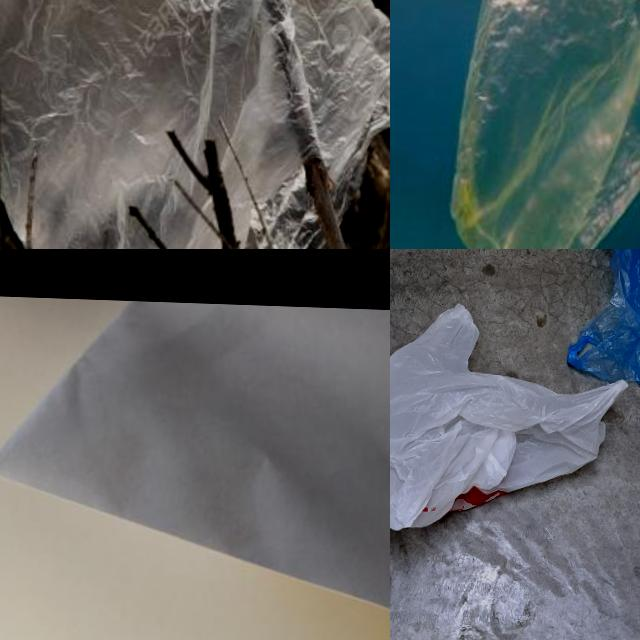papel: (0, 295, 390, 640)
sacola plástica: (0, 0, 390, 249), (390, 300, 631, 538), (444, 0, 640, 249), (565, 249, 640, 390)
